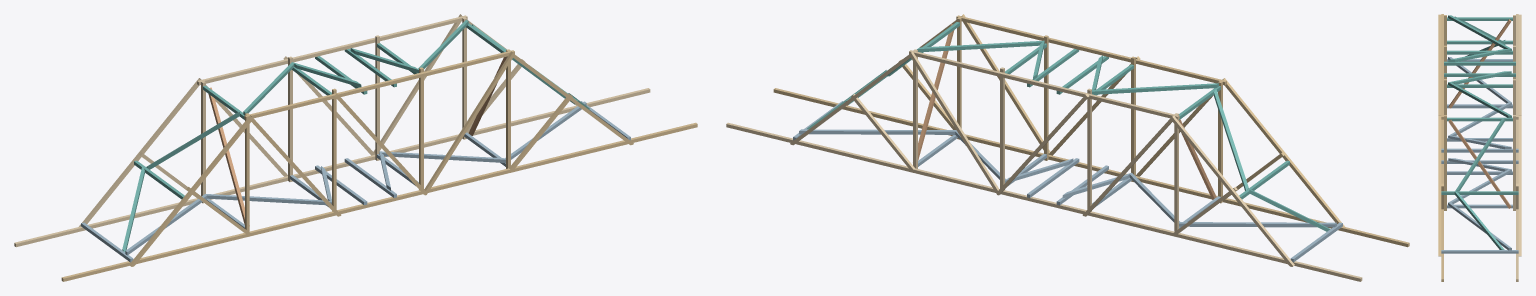
File: bridge-v1-hook-model.glb
3 views of the same model, side by side, from view 1: azimuth 30°, elevation 25°; view 2: azimuth 150°, elevation 25°; view 3: azimuth 270°, elevation 25° (orthographic). The views are drawn at different scales.
Parts seen in each view (by area): view 1: N_A, P_A, N_B, P_B, N_C1, P_C1, N_F2, L0, P_F2, N_C2, Kb1, N_F3 (+15 smaller); view 2: P_A, N_A, P_B, N_B, P_C1, N_C1, P_F2, Kb4, Kb0, N_F2, Kt2, Kt4 (+15 smaller); view 3: N_C2, P_C2, L1, I5, N_A, P_A, HtcL, I6, Kt4, N_B, P_B, Hb5 (+39 smaller).
Part boxes in pixels (x1,y1,x2,y2): N_A: (61,122,697,281); P_A: (14,88,650,247); N_B: (244,50,514,119); P_B: (197,15,467,85); N_C1: (129,115,251,266); P_C1: (79,78,200,226); N_F2: (424,51,512,194); L0: (208,87,249,225); P_F2: (373,14,461,154); N_C2: (513,53,633,145); Kb1: (206,194,331,205); N_F3: (334,93,425,195); P_A: (726,122,1362,281); N_A: (773,88,1409,247); P_B: (909,50,1179,119); N_B: (956,15,1226,85); P_C1: (1172,115,1294,266); N_C1: (1223,78,1344,226); P_F2: (911,51,999,194); Kb4: (799,129,956,134); Kb0: (1179,222,1336,227); N_F2: (962,14,1050,154); Kt2: (1092,83,1218,94); Kt4: (917,40,1044,52); N_C2: (1438,115,1441,256); P_C2: (1518,115,1521,256); L1: (1448,119,1511,208); I5: (1455,118,1505,191); N_A: (1441,119,1443,281); P_A: (1516,119,1518,281); HtcL: (1444,61,1515,65); I6: (1454,191,1504,249); Kt4: (1448,82,1511,118); N_B: (1441,14,1443,119); P_B: (1516,14,1518,119); Hb5: (1441,250,1518,253).
Size of the model in its own units: 0.51 by 0.095 by 0.0735.
